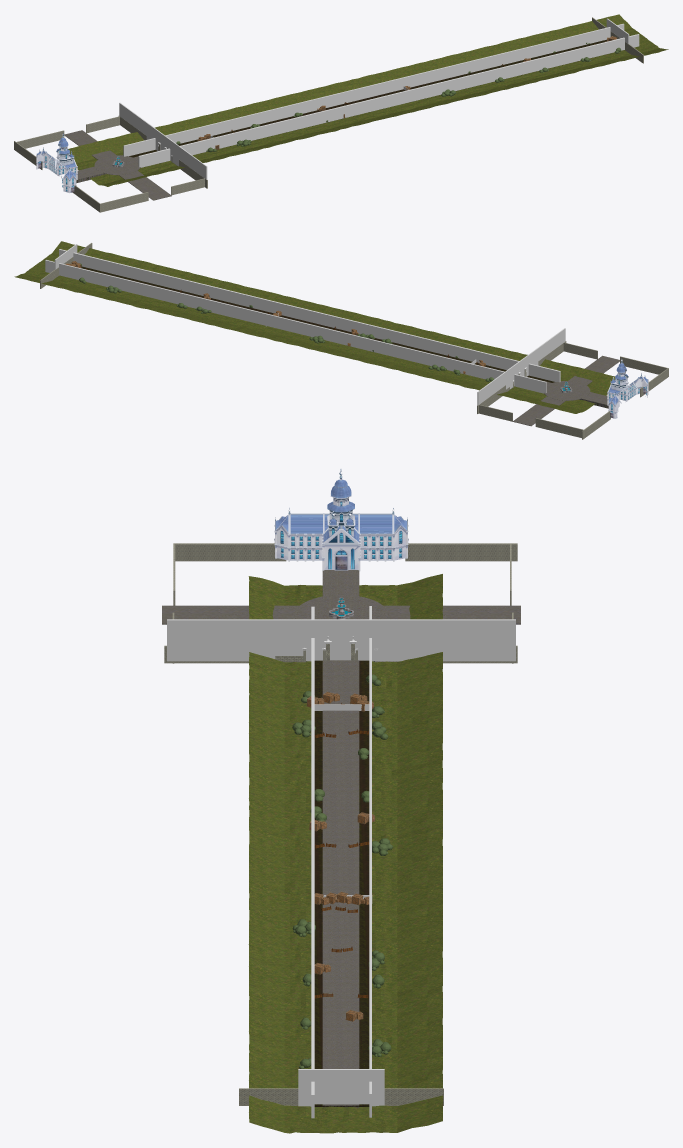
Rendered from road_to_academy.glb.
3 views of the same model, one above another, from view 1: azimuth 30°, elevation 25°; view 2: azimuth 150°, elevation 25°; view 3: azimuth 270°, elevation 25° (orthographic). The views are drawn at different scales.
Parts seen in each view (by area): view 1: Plane, physics_cube.015, physics_cube.010, physics_cube.024, R_Material.004_0.001, road_line.005, road_line.003, road_circle.001, wall.015, wall.013, wall.010, wall.011; view 2: Plane, physics_cube.010, physics_cube.015, physics_cube.024, R_Material.004_0.001, road_line.003, road_line.005, road_circle.001, wall.013, wall.015, wall.011, road_line.004 (+1 smaller); view 3: Plane, road_line.004, physics_cube.024, R_Material.004_0.001, road_line.005, road_line.003, physics_cube.016, wall.012, wall.014, physics_cube.015, wall.016, road_circle.001 (+2 smaller).
Part boxes in pixels (x1,y1,x2,y2): Plane: (68,14,668,186); physics_cube.015: (138,34,639,167); physics_cube.010: (123,23,624,156); physics_cube.024: (119,102,207,179); R_Material.004_0.001: (36,132,77,193); road_line.005: (129,39,606,166); road_line.003: (64,130,171,200); road_circle.001: (94,155,140,175); wall.015: (99,192,148,212); wall.013: (15,130,64,150); wall.010: (86,116,119,132); wall.011: (171,178,204,195); Plane: (14,241,615,413); physics_cube.010: (45,260,546,393); physics_cube.015: (59,249,560,382); physics_cube.024: (477,328,565,405); R_Material.004_0.001: (607,358,648,418); road_line.003: (512,355,619,426); road_line.005: (81,266,554,382); road_circle.001: (544,381,590,400); wall.013: (535,418,584,438); wall.015: (620,356,668,376); wall.011: (563,342,597,359); road_line.004: (81,268,551,385); Plane: (248,574,442,1133); road_line.004: (322,660,359,1107); physics_cube.024: (167,619,515,661); R_Material.004_0.001: (274,469,408,571); road_line.005: (314,660,369,1106); road_line.003: (162,605,520,624); physics_cube.016: (298,1069,384,1106); wall.012: (405,543,517,561); wall.014: (175,543,286,561); physics_cube.015: (311,606,314,1118); wall.016: (239,1088,443,1105); road_circle.001: (294,594,388,619).
Bounding box in the file's own units: 528 × 42.5 × 138.
21 materials, 18 textured.
